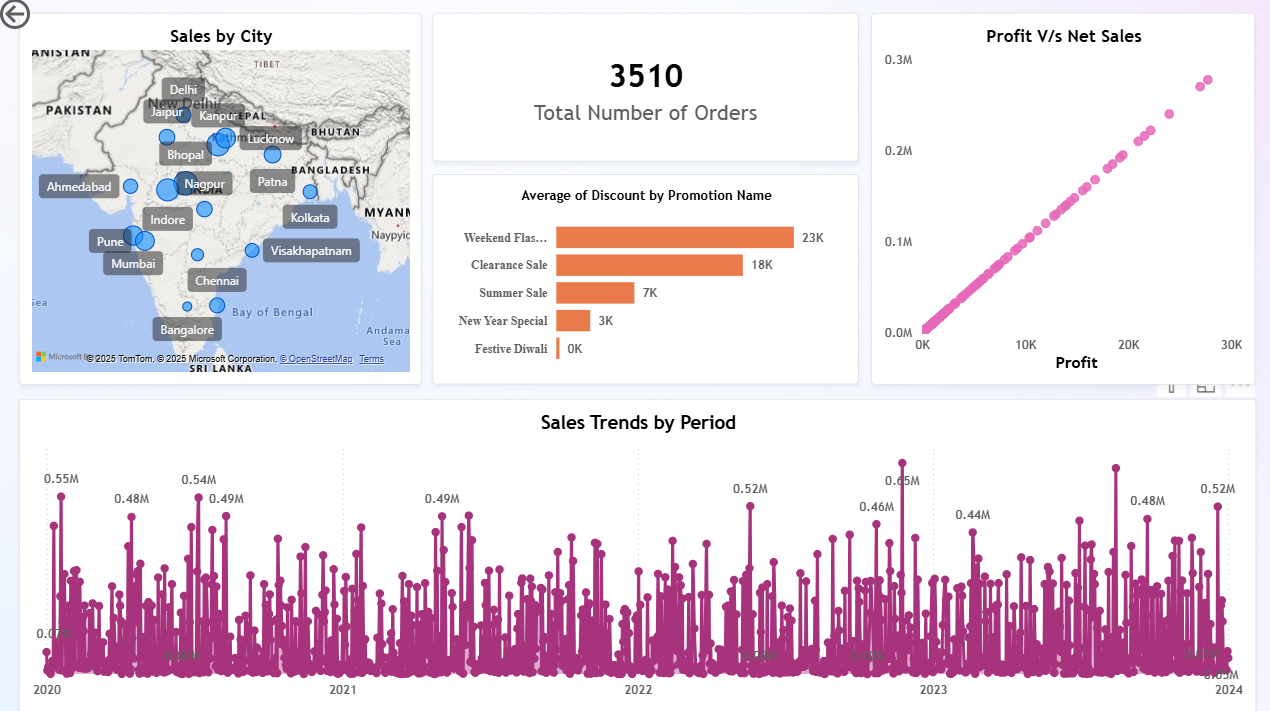

What the dashboard file says about the page in this screenshot:
{"tool":"powerbi","page":{"name":"Overview","canvas":[1280,720],"ordinal":0},"visuals":[{"type":"lineChart","title":"Sales Trends by Period","fields":{"Y":["Sum(Fact Table.Total Sales)"],"Category":["Fact Table.Date (dd/mm/yyyy)"]},"box":[23.3,404.8,1237.7,315.6],"z":0},{"type":"scatterChart","title":"Profit V/s Net Sales","fields":{"X":["Fact Table.Profit"],"Y":["Fact Table.Net Sale"]},"box":[876.8,18.3,384,371.7],"z":1},{"type":"barChart","title":"Average of Discount by Promotion Name","fields":{"Y":["Avg(Fact Table.Discount Values)"],"Category":["Dim Promotion.Promotion Name"]},"box":[437.8,179.8,426.8,210.3],"z":2},{"type":"map","title":"Sales by City","fields":{"Category":["Dim Customers.City"],"Size":["Sum(Fact Table.Net Sale)"]},"box":[23.2,18.3,403.5,371.7],"z":3},{"type":"card","fields":{"Values":["Count(Fact Table.Order Id)"]},"box":[437.8,18.3,426.8,149.2],"z":4},{"type":"actionButton","box":[0,0,100,40],"z":5}]}

Visuals, with their boxes in screenshot pixels (x1, y1, x2, y2), scaled from the page's 1280x720 canvas onto the 1270x711 screenshot:
"Sales Trends by Period" lineChart: region(23, 400, 1251, 710)
"Profit V/s Net Sales" scatterChart: region(870, 18, 1251, 385)
"Average of Discount by Promotion Name" barChart: region(434, 178, 858, 385)
"Sales by City" map: region(23, 18, 423, 385)
card - Count(Fact Table.Order Id): region(434, 18, 858, 165)
actionButton: region(0, 0, 99, 40)
